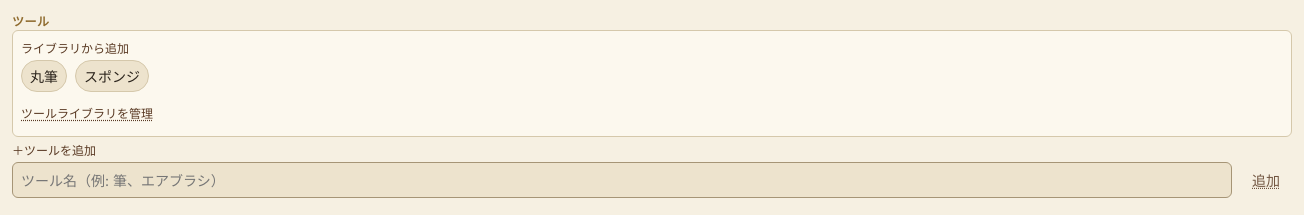
Test: ToolSelect › draft入力で候補名の部分一致絞り込みができる（typeahead兼務）
The width and height of the screenshot is (1304, 215).
Expected: the button "丸筆" is shown, [21,60,67,92]
Step 1. Type "スポ" into the field with placeholder "ツール名（例: 筆、エアブラシ）" → (622, 180), box [12,162,1232,198]
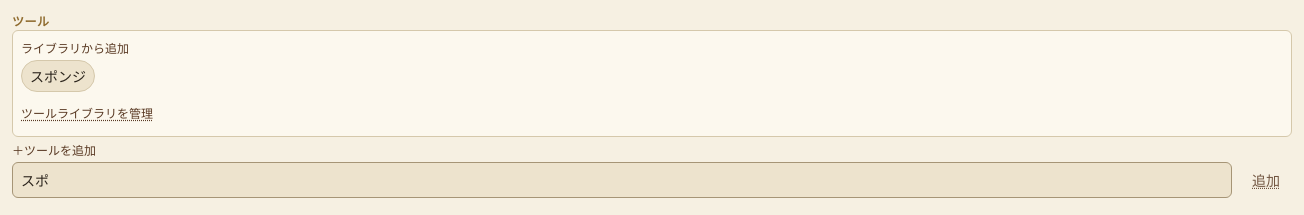
Expected: the button "スポンジ" is shown, [21,60,95,92]
Now the button "丸筆" is gone
